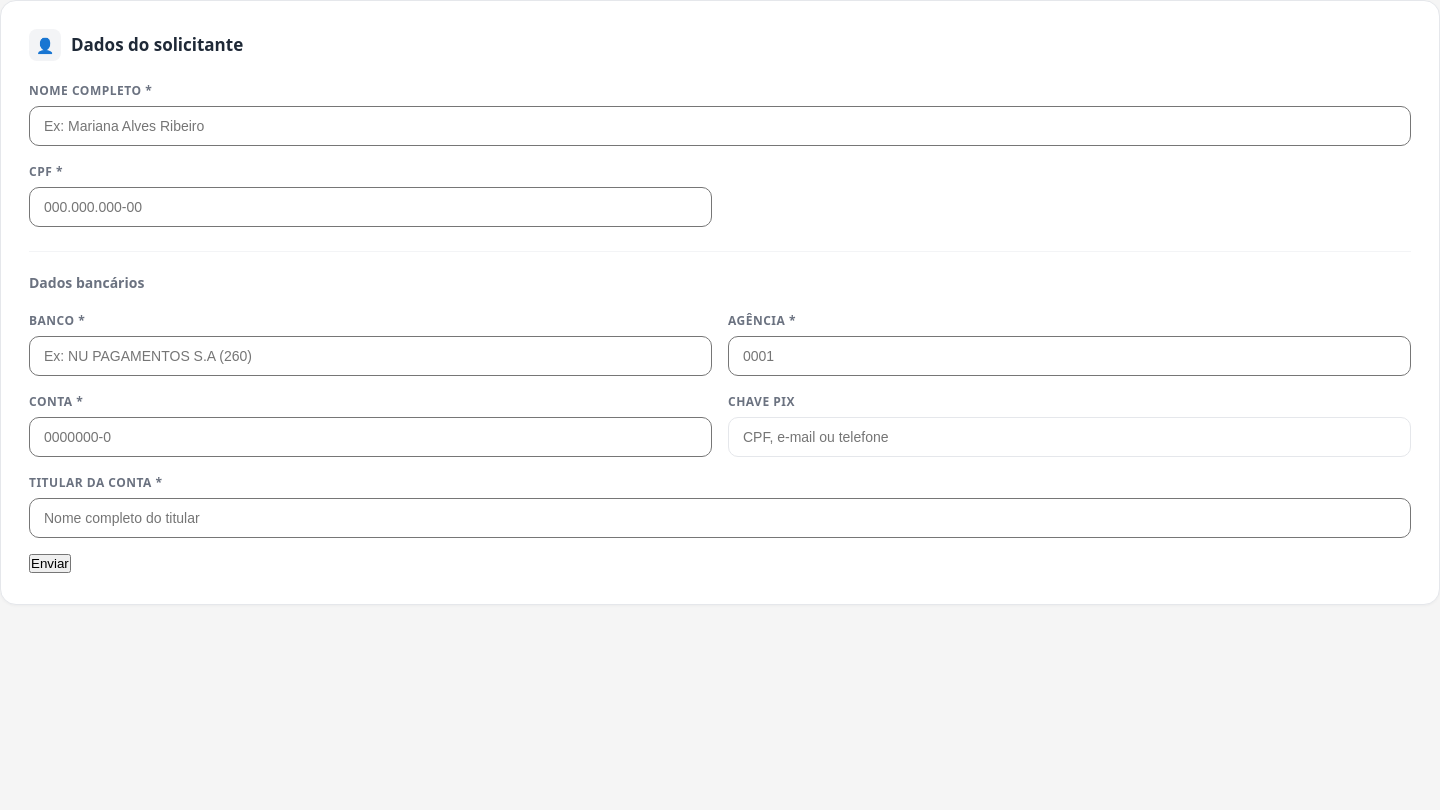
SolicitanteForm › exibe erro "Nome obrigatório" ao submeter com nome vazio
Click the button "Enviar" at (50, 564), box [29,554,71,573]
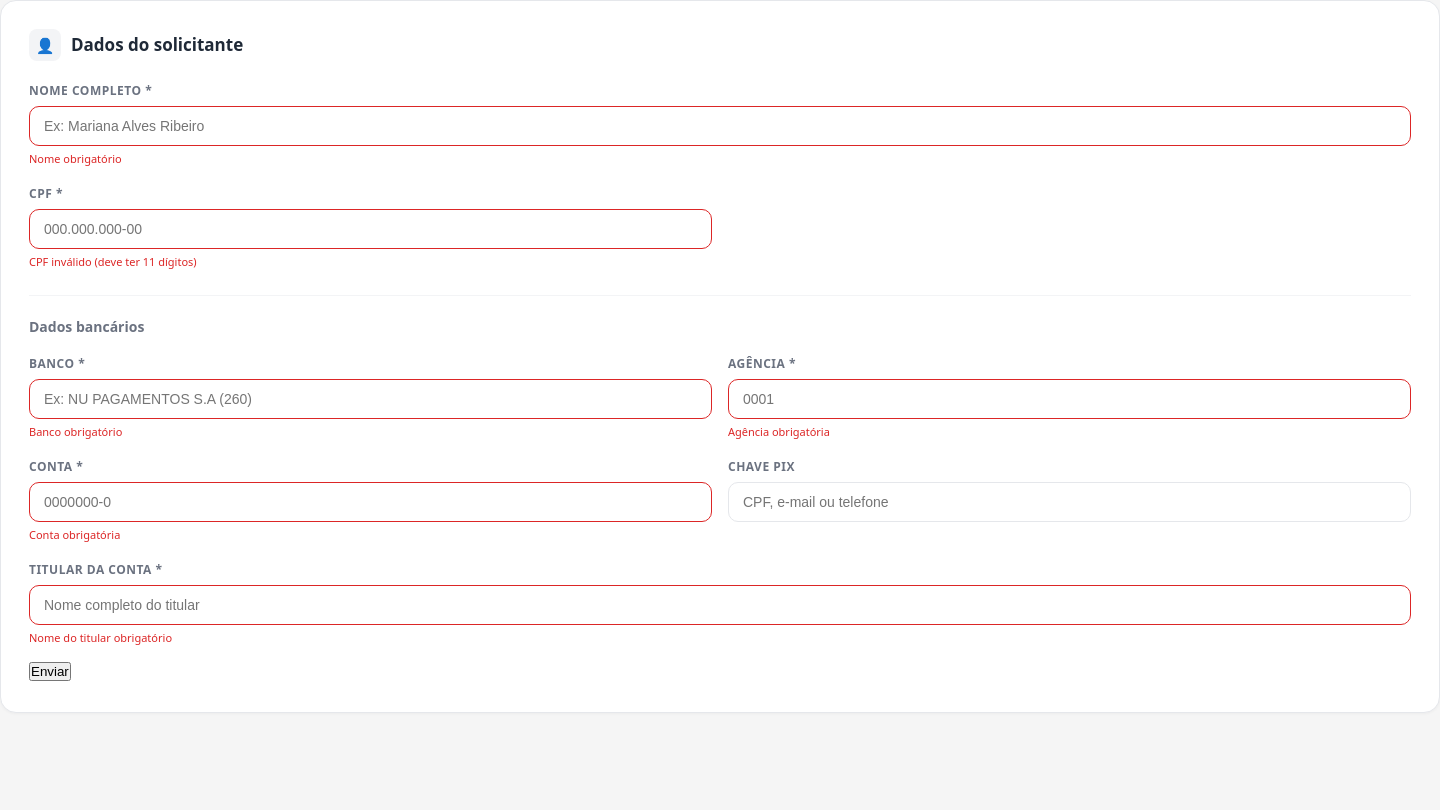
Expected: the text "Nome obrigatório" is shown, [29,151,122,166]
